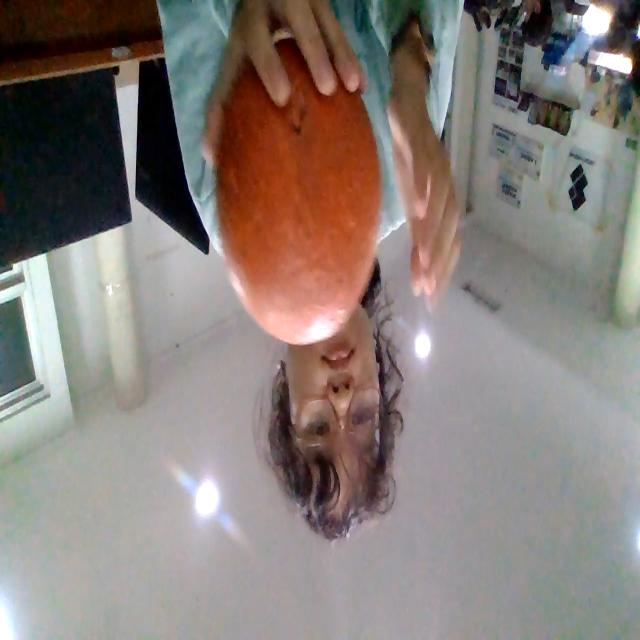ball: (214, 37, 382, 347)
